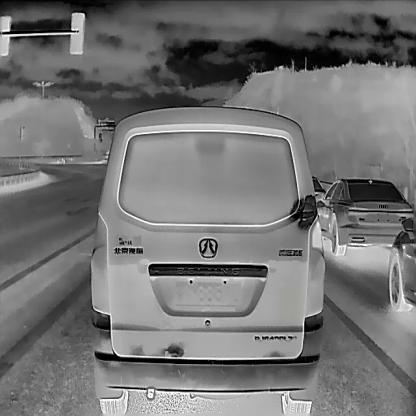car: (89, 104, 325, 415), (311, 177, 414, 255), (386, 213, 415, 312)
